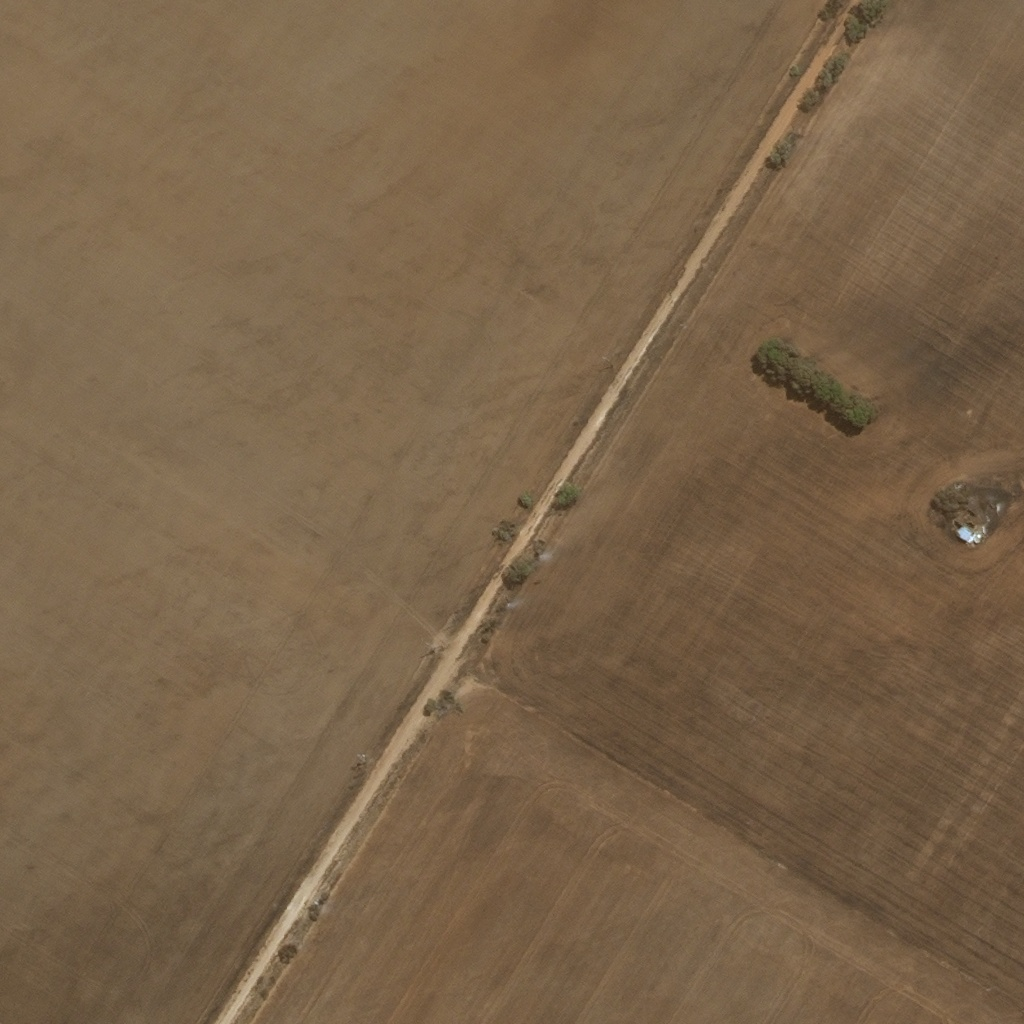0 no-damage: (955, 525, 975, 543)
